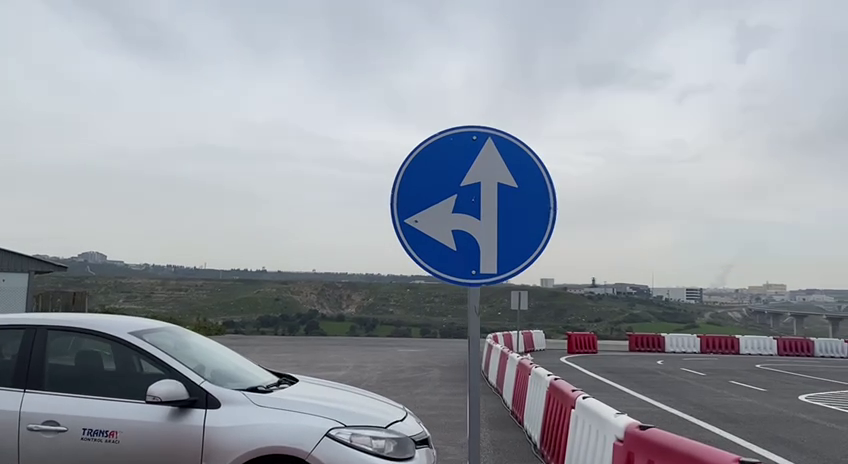forwardAndLeft: (385, 120, 564, 293)
